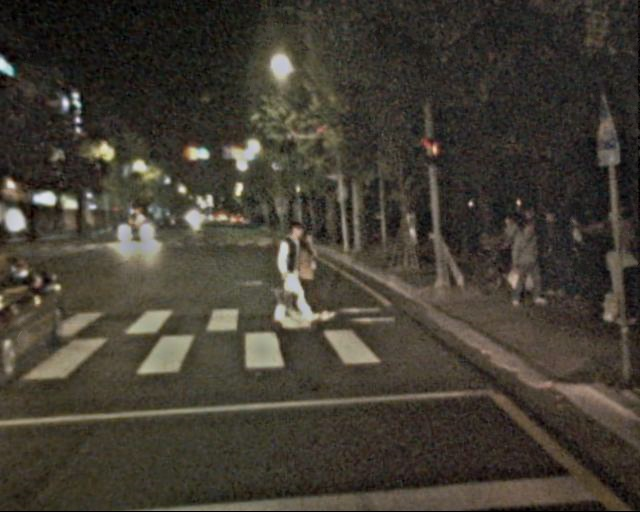person: (272, 219, 317, 328), (506, 209, 561, 295), (596, 231, 637, 330), (552, 212, 591, 306), (509, 221, 547, 313), (288, 231, 326, 323)
